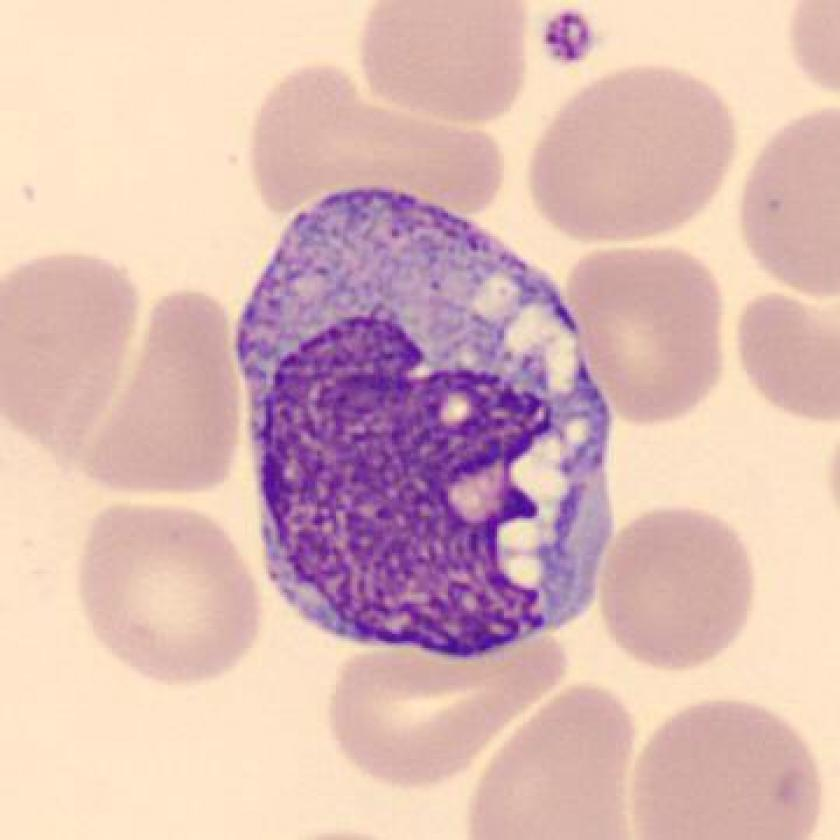monocyte: (213, 184, 638, 667)
